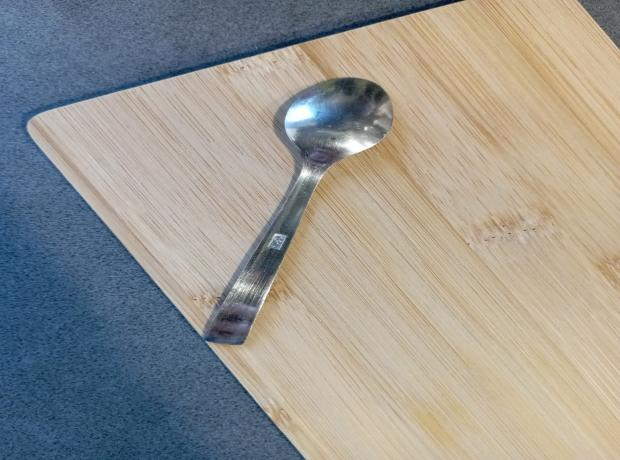metal: (200, 76, 398, 345)
